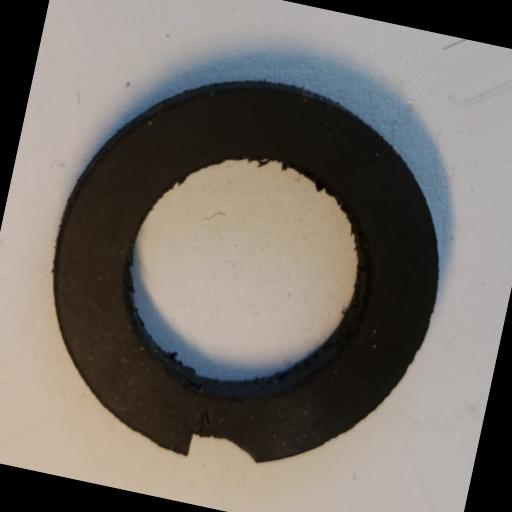defect: (183, 428, 262, 472)
